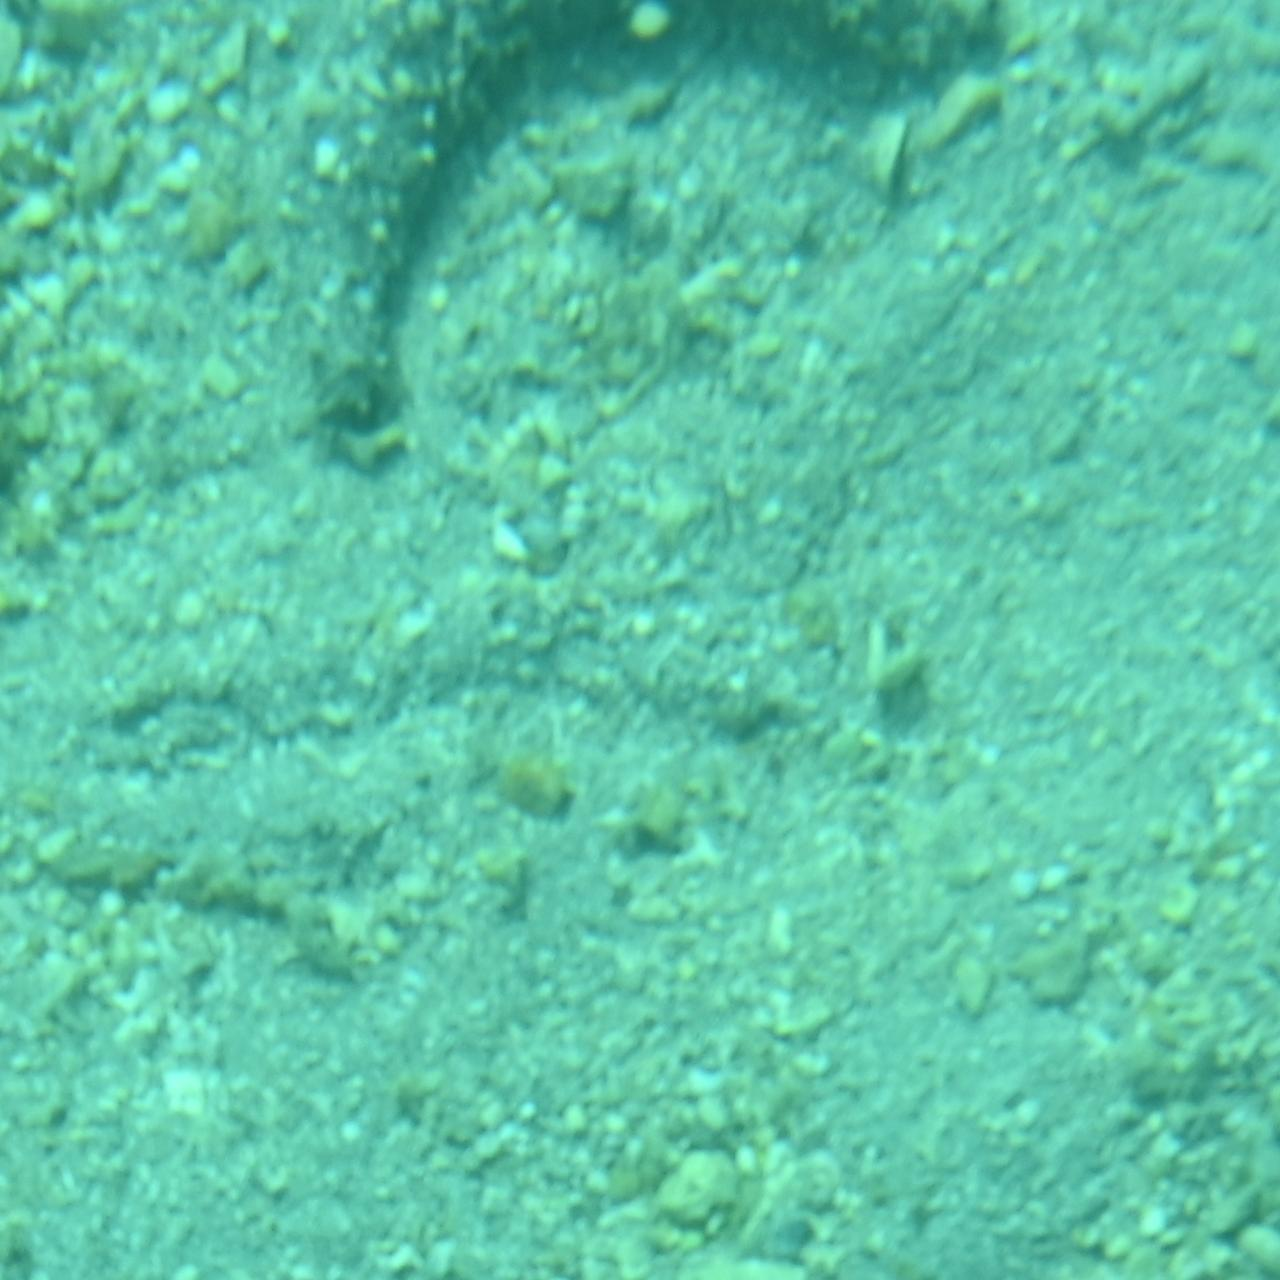Holothuria tubulosa: (253, 0, 1027, 484)
